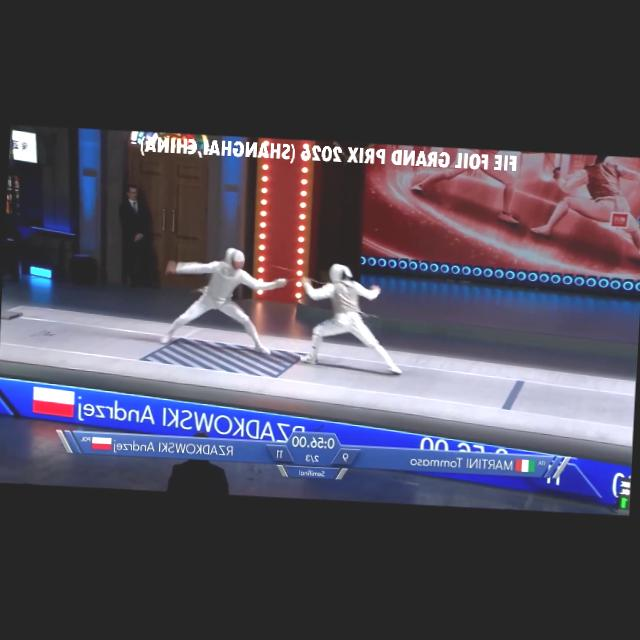blade: (270, 262, 313, 284), (279, 274, 331, 292)
